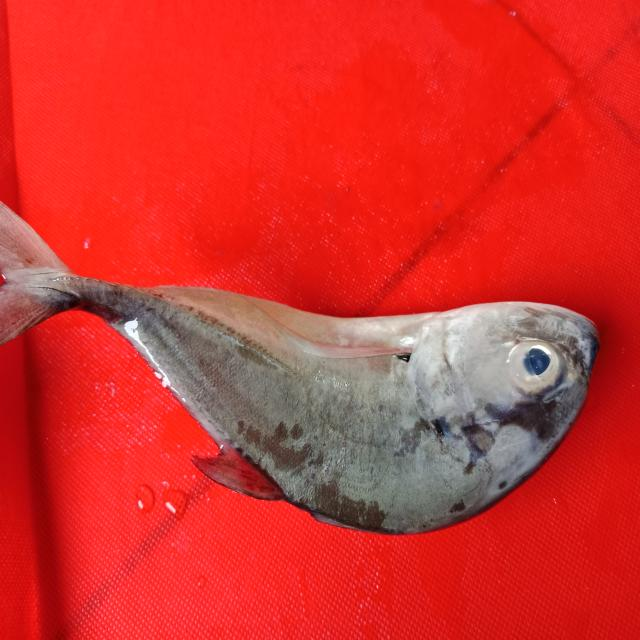ikan: (9, 204, 607, 544)
